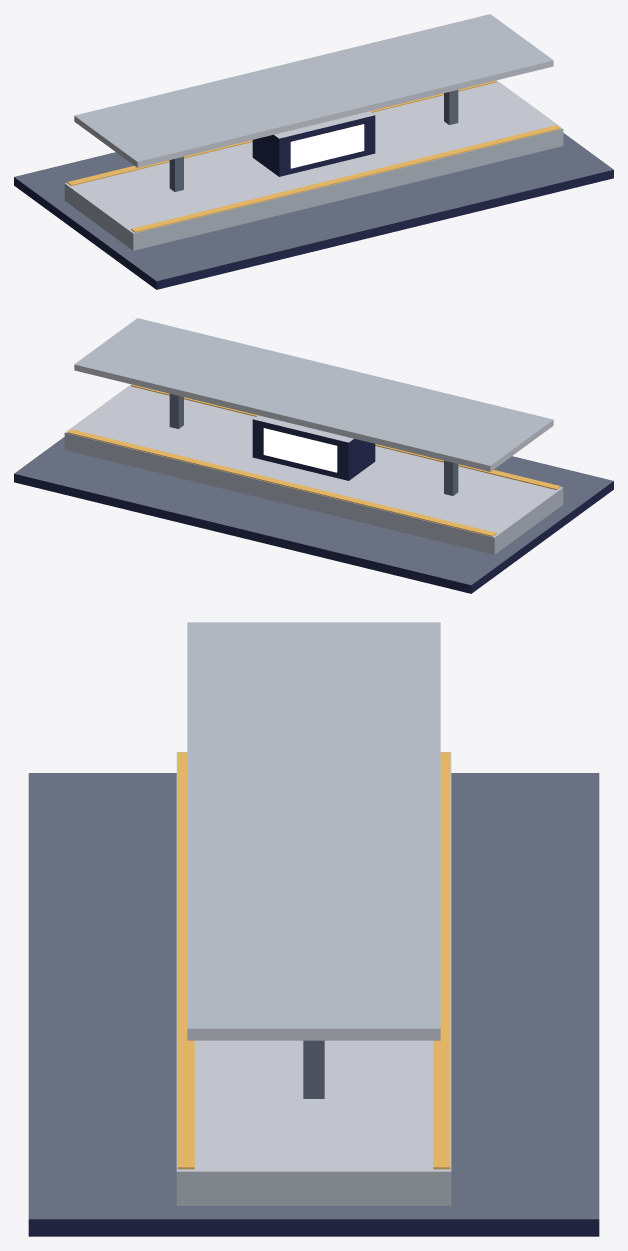
Rendered from platform-island-tra.glb.
3 views of the same model, one above another, from view 1: azimuth 30°, elevation 25°; view 2: azimuth 150°, elevation 25°; view 3: azimuth 270°, elevation 25° (orthographic). The views are drawn at different scales.
Visible parts, largest first — view 1: platform-island-tra_root; view 2: platform-island-tra_root; view 3: platform-island-tra_root.
Boxes of the visible parts, bbox=[...] form: platform-island-tra_root: bbox=[14, 14, 613, 289]; platform-island-tra_root: bbox=[14, 318, 613, 593]; platform-island-tra_root: bbox=[28, 622, 599, 1236].
Bounding box in the file's own units: 20 × 3.92 × 10.8.
2 materials, 2 textured.
